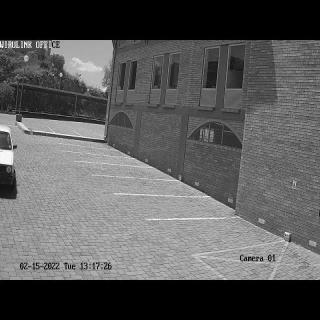car: (0, 125, 18, 187)
